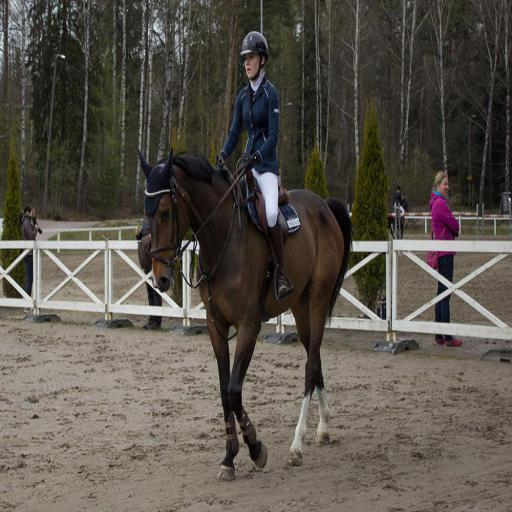horse: (134, 148, 356, 480)
